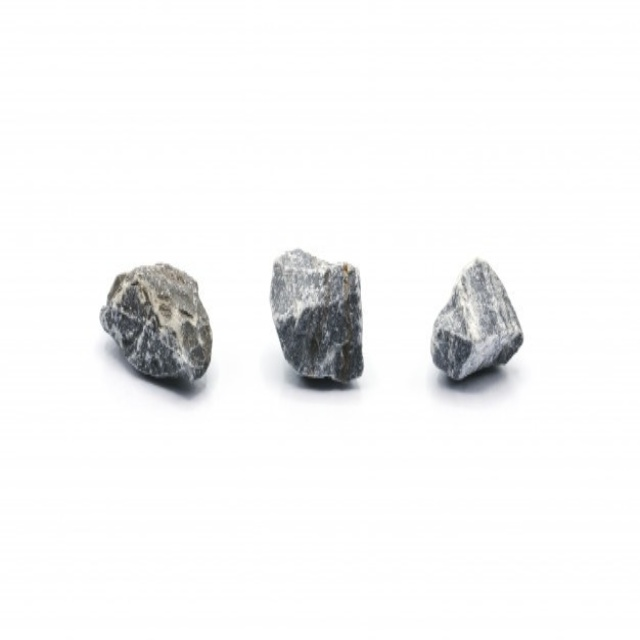obstacle: (100, 264, 212, 380), (270, 249, 363, 382), (430, 258, 522, 378)
